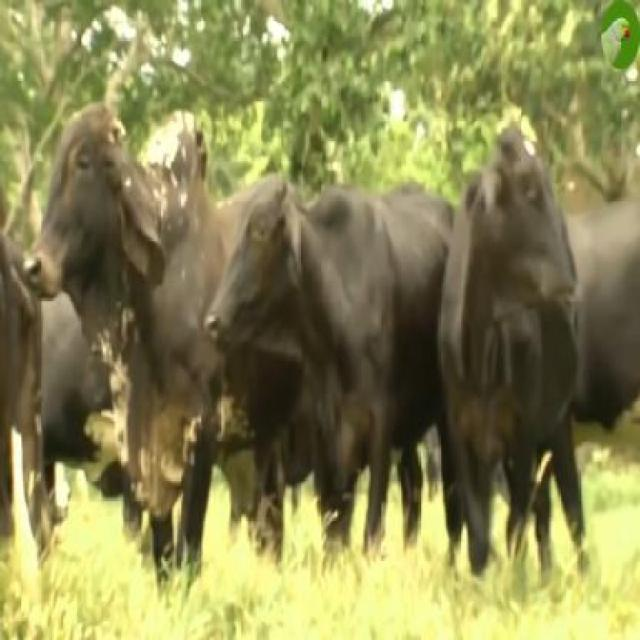Cow: (440, 120, 578, 588)
